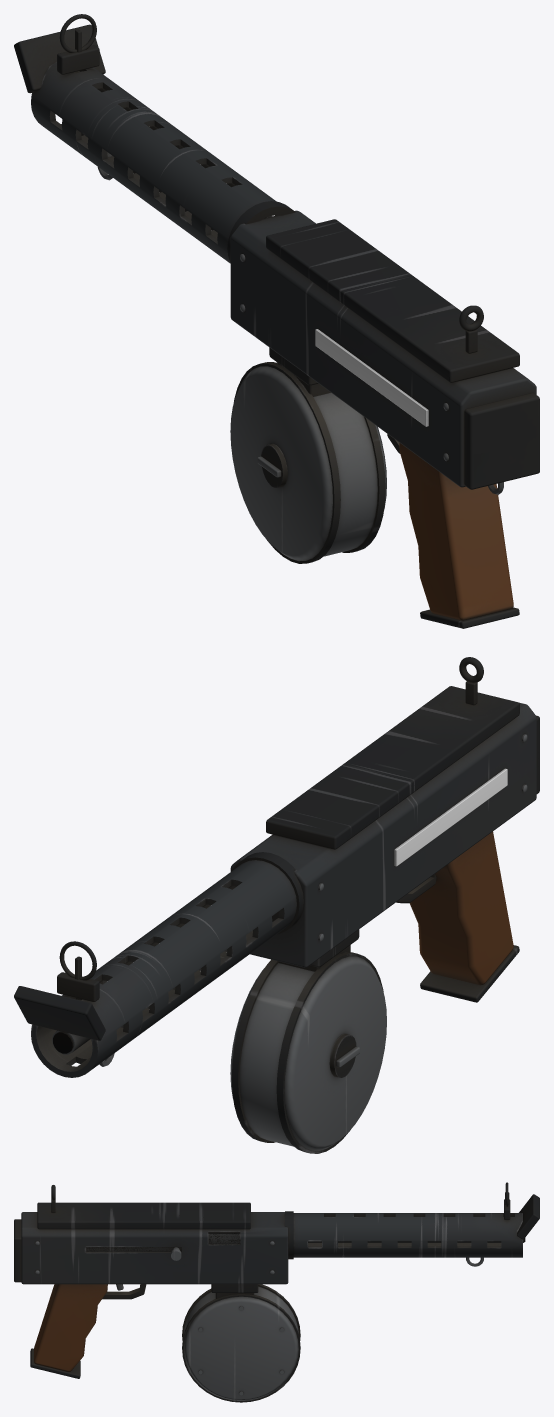
The model's file is weapon_smg.gltf.
3 renders of one model, top to bottom at view 1: azimuth 30°, elevation 25°; view 2: azimuth 150°, elevation 25°; view 3: azimuth 270°, elevation 25°, orthographic. The views are drawn at different scales.
Visible parts, largest first — view 1: Body, Mag; view 2: Body, Mag; view 3: Body, Mag.
Boxes of the visible parts, bbox=[...] form: Body: bbox=[14, 14, 539, 628]; Mag: bbox=[230, 362, 386, 563]; Body: bbox=[14, 657, 539, 1077]; Mag: bbox=[230, 945, 386, 1153]; Body: bbox=[14, 1182, 539, 1378]; Mag: bbox=[182, 1284, 300, 1402].
Bounding box in the file's own units: 0.0635 × 0.219 × 0.4928.
Materials: 6 (6 with a texture image).
